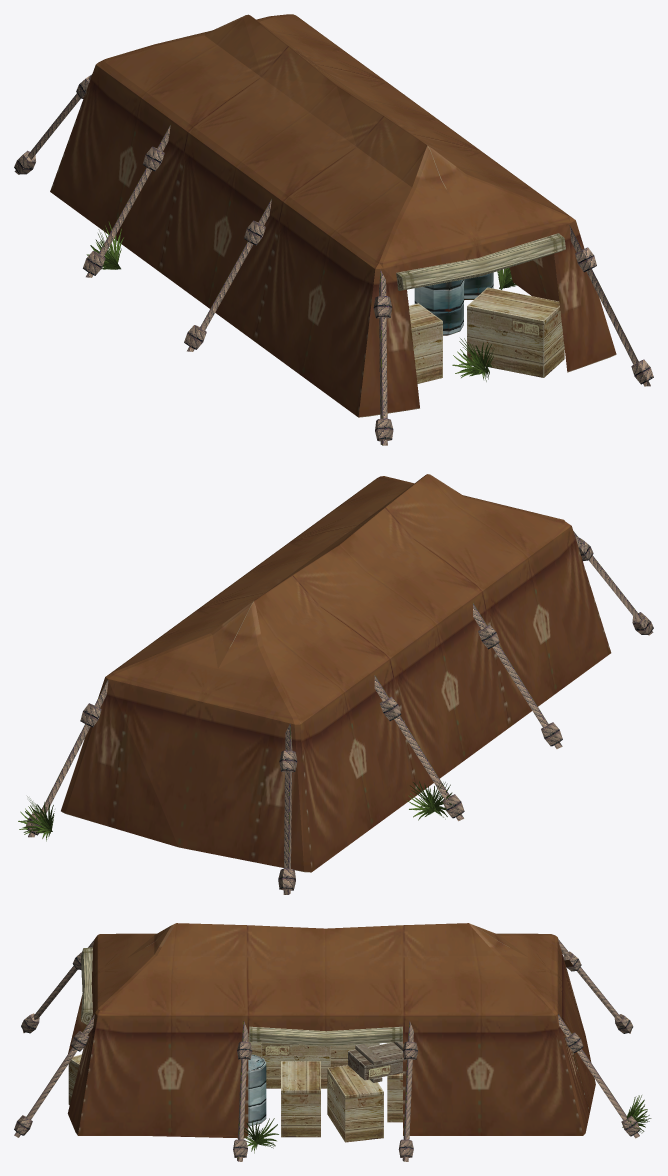
The model's file is C1SMTUNTENTHAH.bgf.obj.
The picture shows the model from 3 angles, top to bottom: view 1: azimuth 30°, elevation 25°; view 2: azimuth 150°, elevation 25°; view 3: azimuth 270°, elevation 25°; orthographic projection. The views are drawn at different scales.
Parts seen in each view (by area): view 1: BOX04, FRAG03, FRAG02; view 2: BOX04; view 3: BOX04, FRAG, FRAG01, FRAG02, FRAG03.
Part boxes in pixels (x1,y1,x2,y2): BOX04: (14,14,653,445); FRAG03: (409,287,564,383); FRAG02: (414,272,493,335); BOX04: (18,474,653,894); BOX04: (14,923,651,1161); FRAG: (281,1042,402,1142); FRAG01: (248,1033,389,1088); FRAG02: (248,1054,266,1125); FRAG03: (68,1054,81,1104).
Bounding box in the file's own units: 9.27 × 4.93 × 16.55.
Materials: 10 (10 with a texture image).
